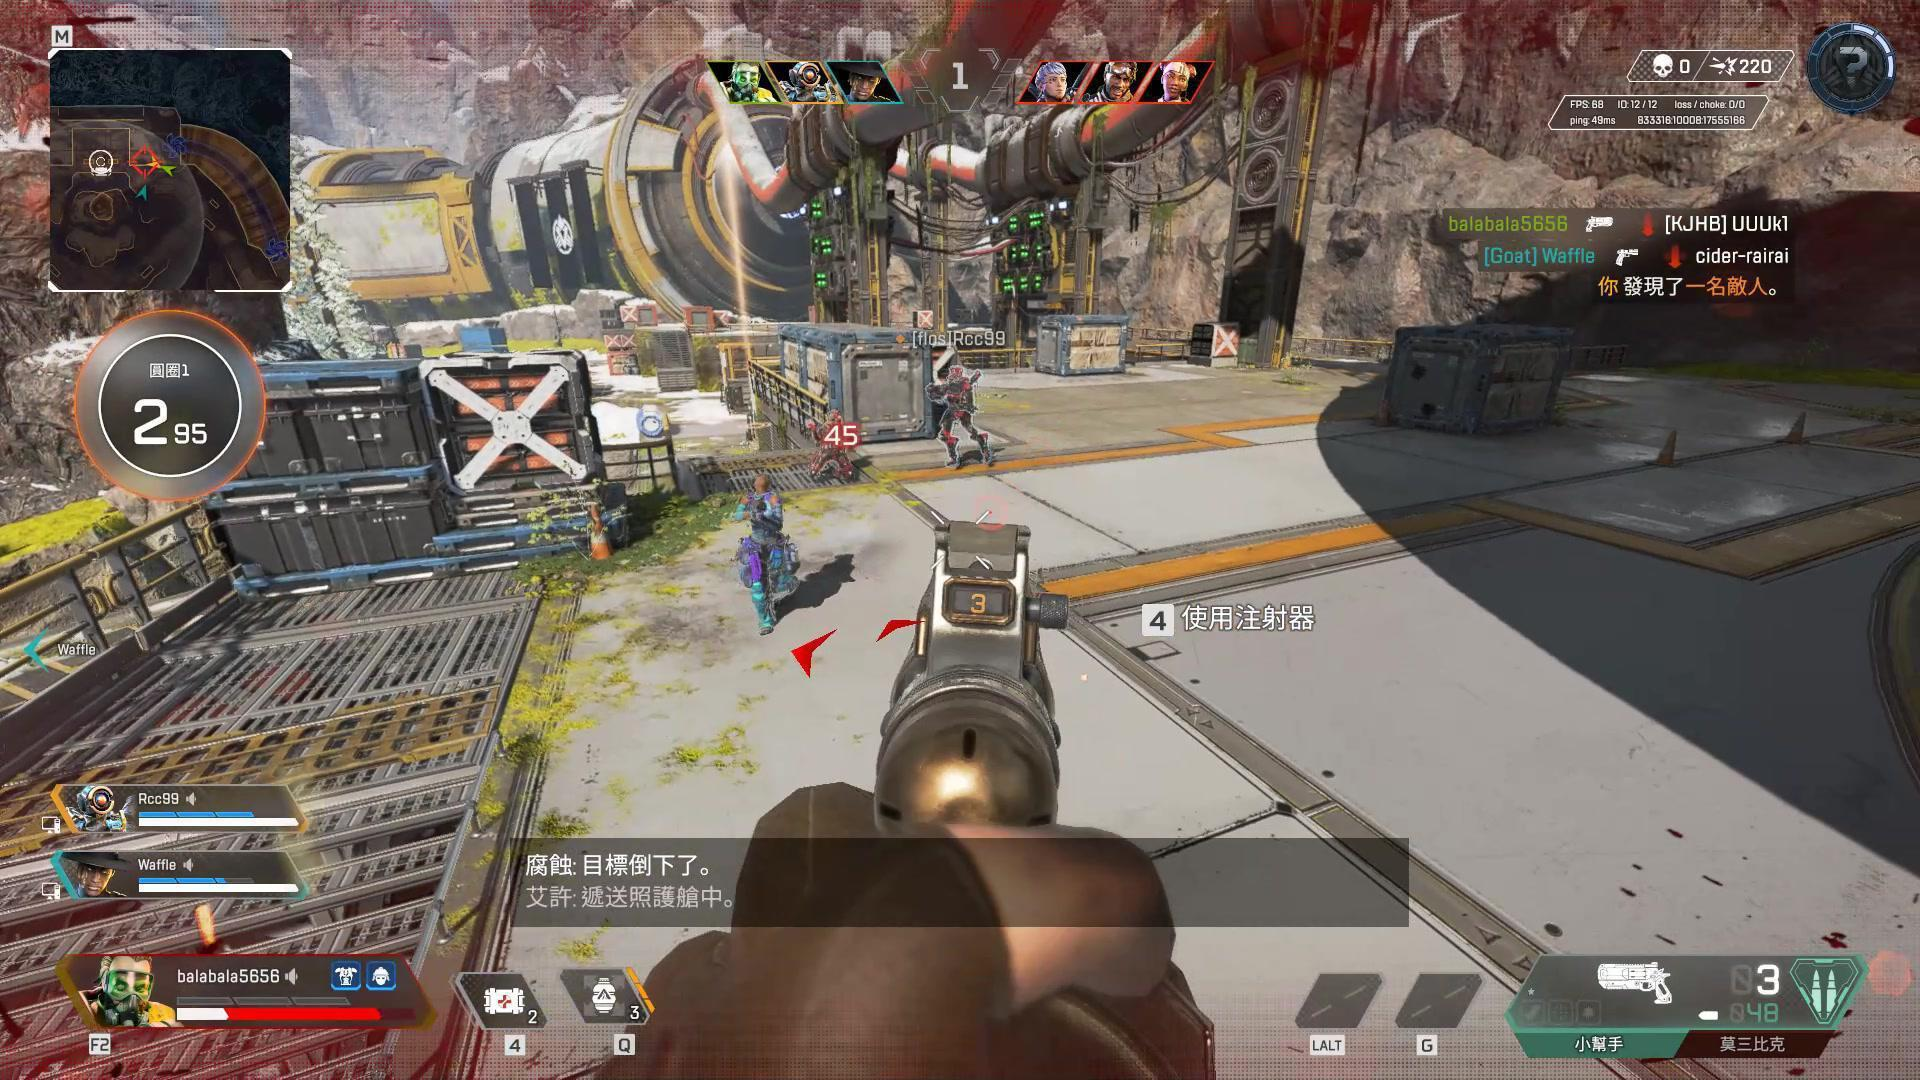avatar: (730, 470, 800, 632), (925, 361, 995, 472)
